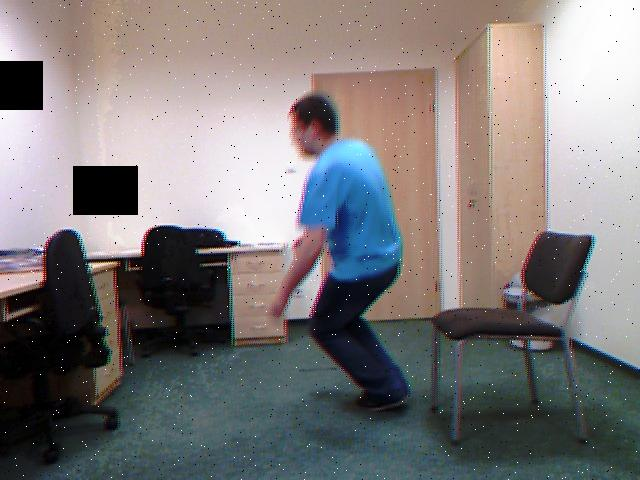near-fall: (258, 78, 419, 421)
